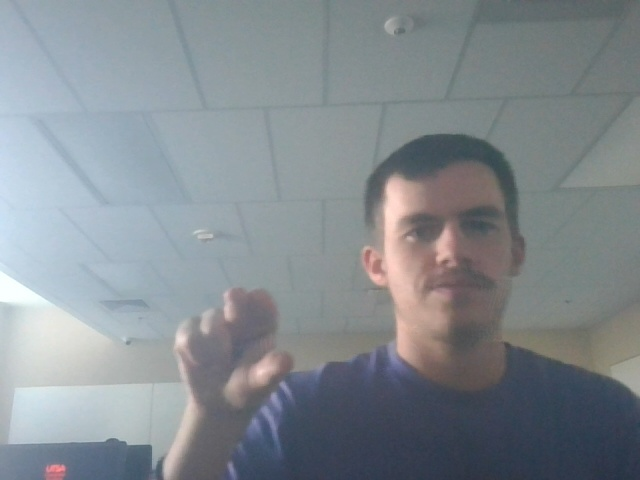no: (156, 280, 321, 423)
